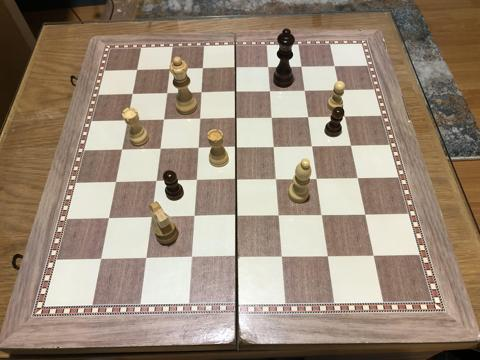xcorner: (196, 63, 208, 76), (163, 64, 176, 76), (194, 87, 207, 99), (301, 111, 314, 123), (229, 112, 241, 125), (229, 141, 241, 154), (115, 143, 127, 156), (188, 174, 201, 186), (148, 175, 161, 187), (271, 209, 284, 221), (228, 210, 241, 222), (186, 210, 198, 223), (143, 211, 156, 223), (101, 212, 114, 224), (366, 249, 379, 261), (228, 251, 241, 263), (328, 60, 340, 72), (295, 61, 307, 73), (262, 62, 274, 74), (229, 63, 241, 75), (131, 65, 143, 77), (333, 84, 345, 96), (298, 85, 310, 97), (263, 86, 275, 98), (229, 86, 241, 98), (160, 88, 172, 100), (126, 89, 138, 101), (338, 110, 350, 122), (265, 112, 277, 124), (193, 113, 205, 125), (157, 114, 169, 126), (121, 115, 133, 127), (344, 139, 356, 151), (305, 140, 317, 152), (267, 141, 279, 153), (191, 142, 203, 154), (153, 143, 165, 155), (351, 172, 363, 184), (310, 172, 322, 184), (269, 173, 281, 185), (229, 174, 241, 186), (109, 176, 121, 188), (358, 208, 370, 220), (315, 209, 327, 221), (320, 250, 332, 262), (274, 250, 286, 262), (183, 251, 195, 263), (138, 252, 150, 264), (93, 252, 105, 264)
